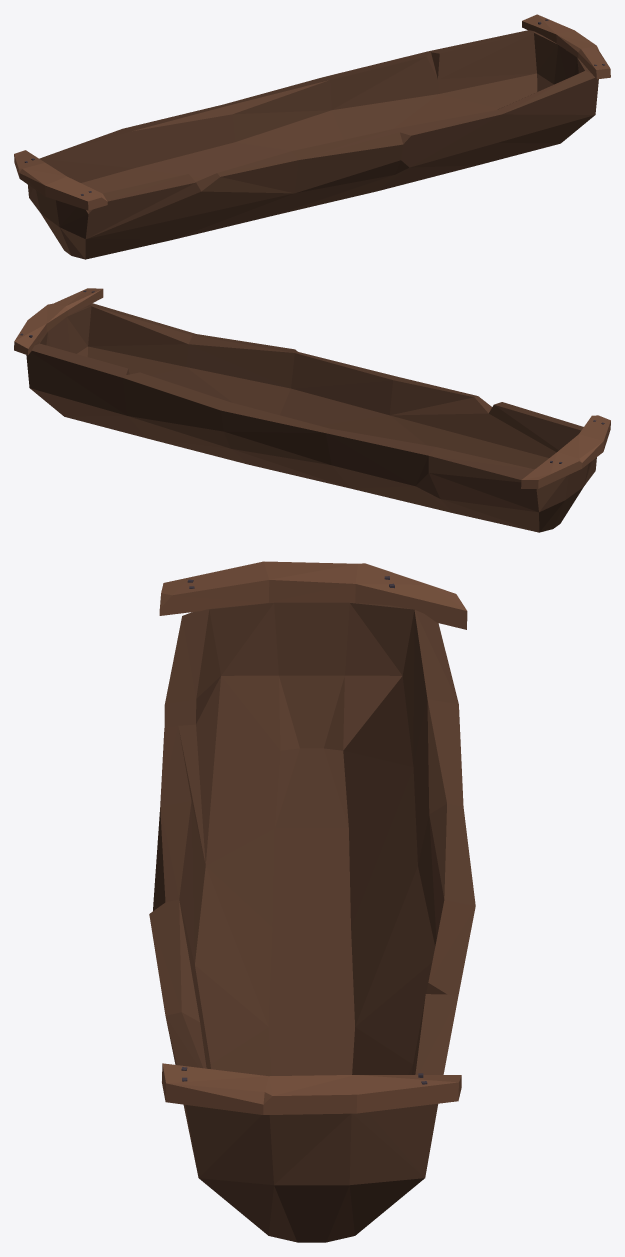
The model's file is Trough.fbx.
3 views of the same model, one above another, from view 1: azimuth 30°, elevation 25°; view 2: azimuth 150°, elevation 25°; view 3: azimuth 270°, elevation 25° (orthographic). The views are drawn at different scales.
Parts seen in each view (by area): view 1: Trough; view 2: Trough; view 3: Trough.
Boxes of the visible parts, <box> form: Trough: <box>14,14,610,259</box>; Trough: <box>14,288,610,532</box>; Trough: <box>149,561,475,1242</box>.
Bounding box in the file's own units: 3.2 × 0.4989 × 0.8139.
